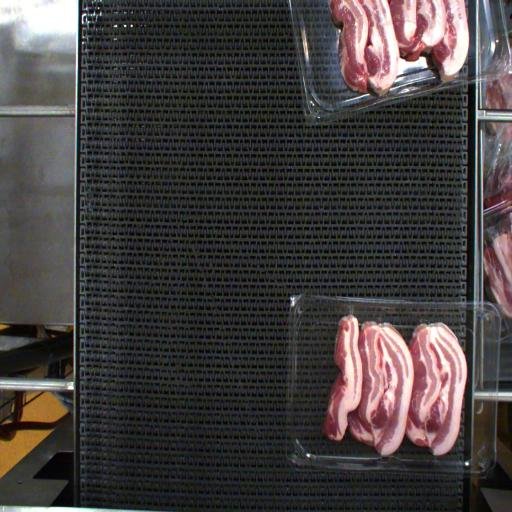packaging-error: (345, 301, 356, 316)
